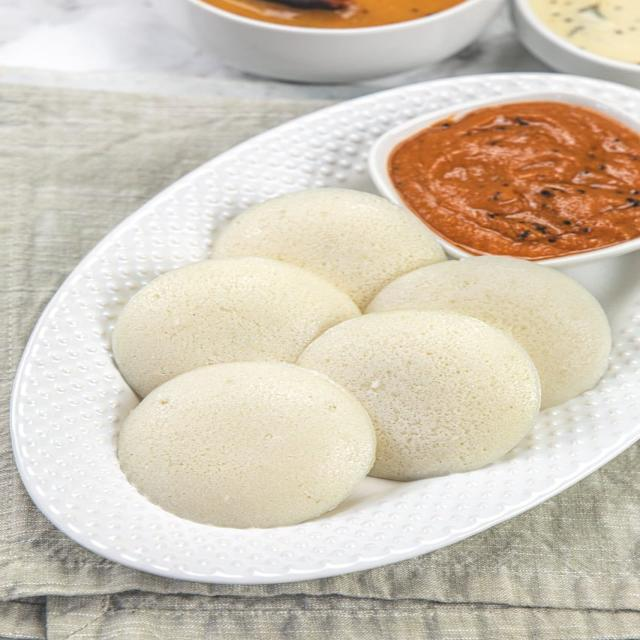Idly: (106, 355, 390, 536), (305, 308, 551, 486), (366, 255, 624, 404), (95, 255, 353, 387), (216, 182, 440, 307)
